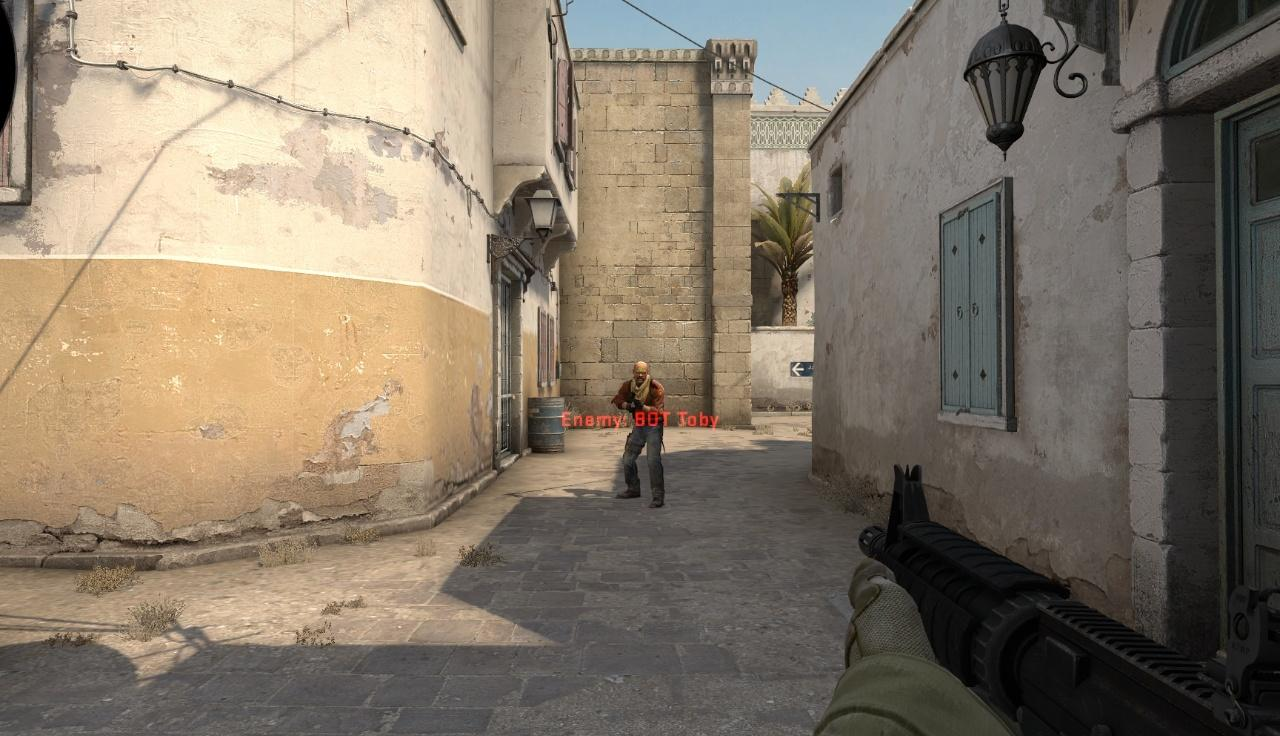rifle: (859, 464, 1280, 736)
tt: (619, 362, 665, 509)
tthead: (633, 361, 648, 384)
